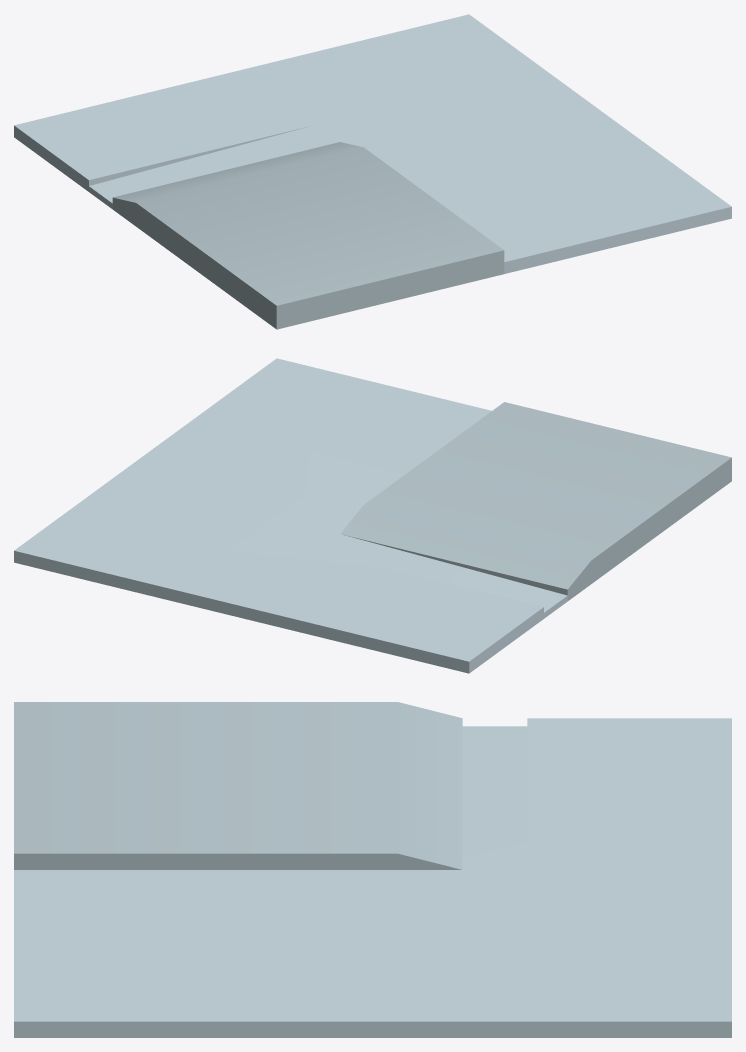
Rendered from road_slope.glb.
3 views of the same model, one above another, from view 1: azimuth 30°, elevation 25°; view 2: azimuth 150°, elevation 25°; view 3: azimuth 270°, elevation 25° (orthographic). The views are drawn at different scales.
Visible parts, largest first — view 1: roadSlope; view 2: roadSlope; view 3: roadSlope.
Boxes of the visible parts, x1,y1,x2,y2 form: roadSlope: (14,14,731,329); roadSlope: (14,358,731,673); roadSlope: (14,702,731,1037).
Size of the model in its own units: 1 by 0.05 by 1.
